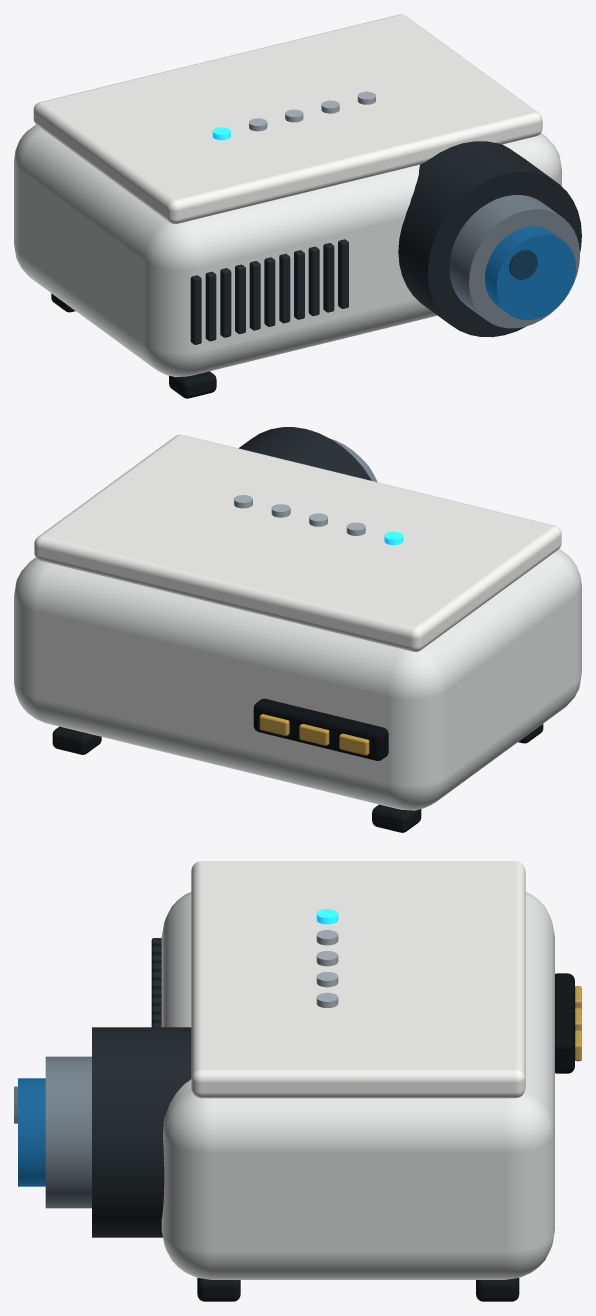
The model's file is projector.glb.
3 renders of one model, top to bottom at view 1: azimuth 30°, elevation 25°; view 2: azimuth 150°, elevation 25°; view 3: azimuth 270°, elevation 25°, orthographic. The views are drawn at different scales.
Parts seen in each view (by area): view 1: Top control deck, Projector enclosure, Lens barrel, Cooling vent (×11), Focus ring, Projection lens, Projector foot, Lens reflection; view 2: Projector enclosure, Top control deck, Rear IO panel, Lens barrel, Projector foot (×2); view 3: Projector enclosure, Top control deck, Lens barrel, Focus ring, Projection lens, Rear IO panel, Projector foot (×2).
Part boxes in pixels (left/top/right/bottom): Top control deck: left=33, top=14, right=542, bottom=224; Projector enclosure: left=14, top=125, right=561, bottom=377; Lens barrel: left=398, top=141, right=581, bottom=337; Cooling vent (×11): left=190, top=239, right=348, bottom=344; Focus ring: left=449, top=195, right=579, bottom=328; Projection lens: left=485, top=226, right=575, bottom=319; Projector foot: left=169, top=371, right=216, bottom=398; Lens reflection: left=509, top=249, right=537, bottom=279; Projector enclosure: left=14, top=549, right=581, bottom=810; Top control deck: left=34, top=434, right=561, bottom=651; Rear IO panel: left=253, top=698, right=388, bottom=760; Lens barrel: left=239, top=427, right=371, bottom=480; Projector foot (×2): left=52, top=726, right=421, bottom=832; Projector enclosure: left=161, top=892, right=554, bottom=1279; Top control deck: left=191, top=861, right=525, bottom=1098; Lens barrel: left=92, top=1027, right=191, bottom=1237; Focus ring: left=45, top=1056, right=91, bottom=1208; Projection lens: left=18, top=1078, right=45, bottom=1186; Rear IO panel: left=555, top=973, right=574, bottom=1073; Projector foot (×2): left=197, top=1278, right=519, bottom=1301.
Bounding box in the file's own units: 1.82 × 0.8775 × 1.84.
